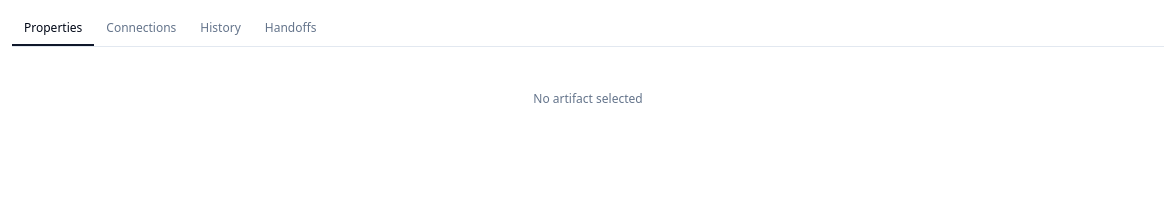
Test: ContextRail — generic variant › History tab renders graceful empty state (activity endpoint not yet shipped)
The image size is (1164, 210).
Click the tab "History".
click(221, 29)  # box [188,12,253,46]
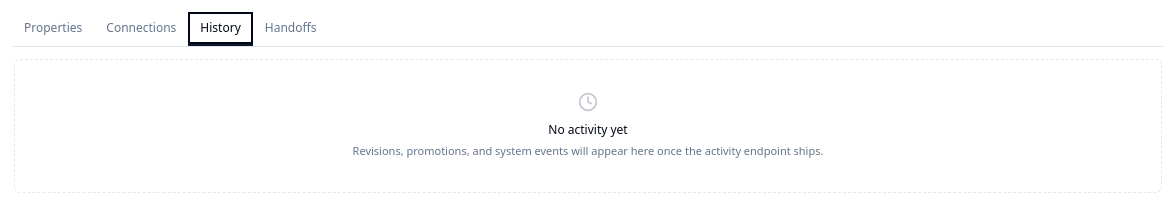
Expected: the text "No activity yet" is shown, [548,121,628,138]
